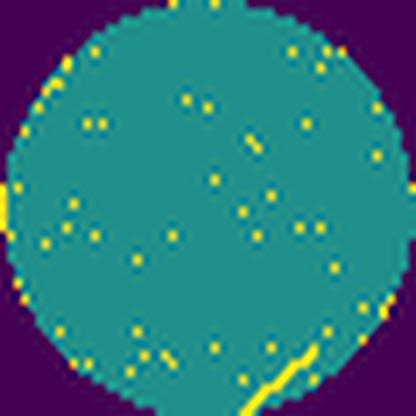Scratch: (235, 340, 323, 416)
